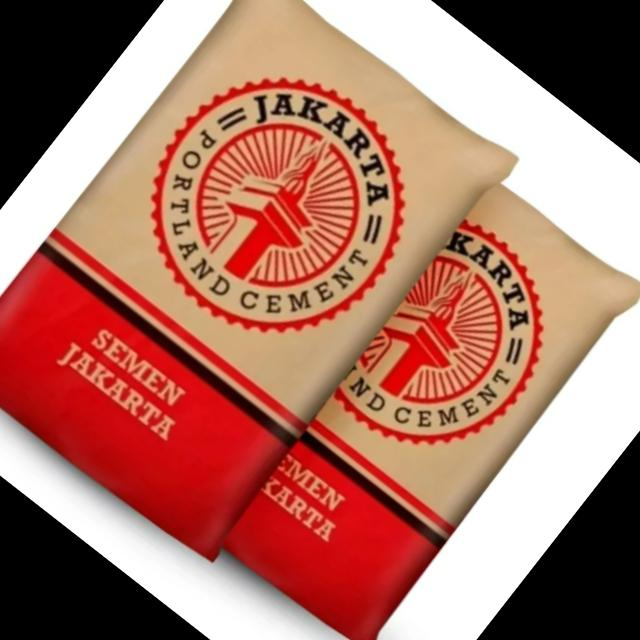KantongSemen: (0, 0, 529, 574), (196, 157, 640, 640)
